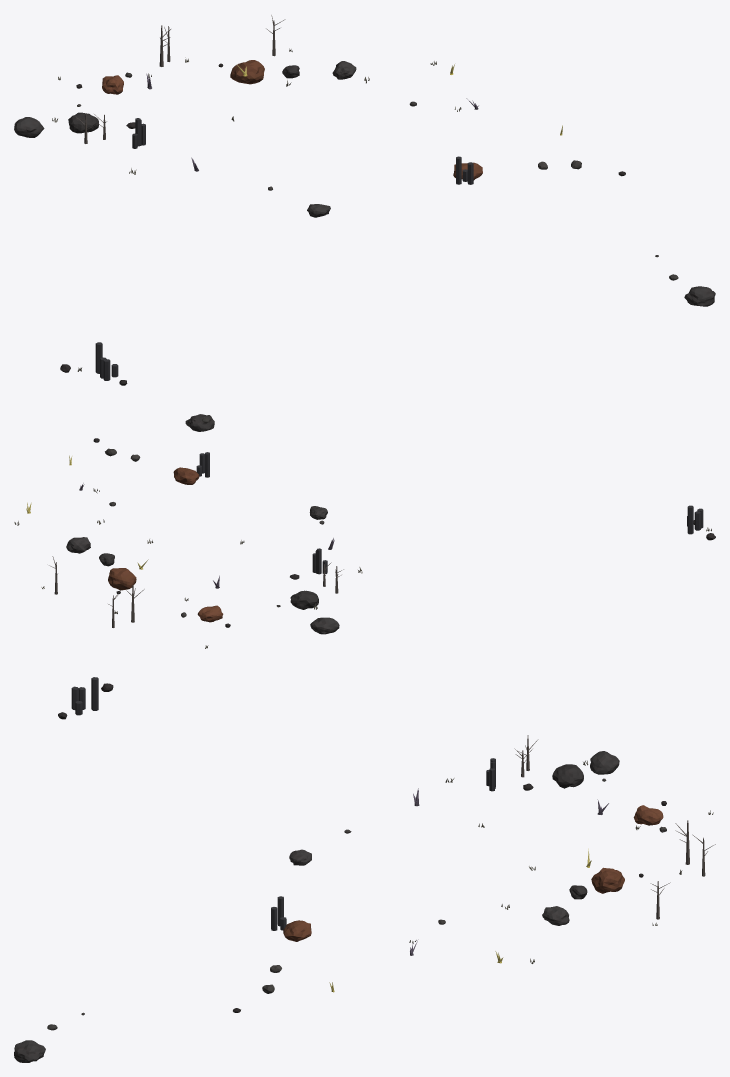
Rendered from ash_land_scatter_c20_31.glb.
3 renders of one model, top to bottom at view 1: azimuth 30°, elevation 25°; view 2: azimuth 150°, elevation 25°; view 3: azimuth 270°, elevation 25°, orthographic. The views are drawn at different scales.
Visible parts, largest first — view 1: ash_land_scatter_c20_31; view 2: ash_land_scatter_c20_31; view 3: ash_land_scatter_c20_31.
Part boxes in pixels (<box>): ash_land_scatter_c20_31: <box>14,15,715,385</box>; ash_land_scatter_c20_31: <box>14,414,715,648</box>; ash_land_scatter_c20_31: <box>14,677,715,1062</box>.
Size of the model in its own units: 117 by 20.31 by 106.
